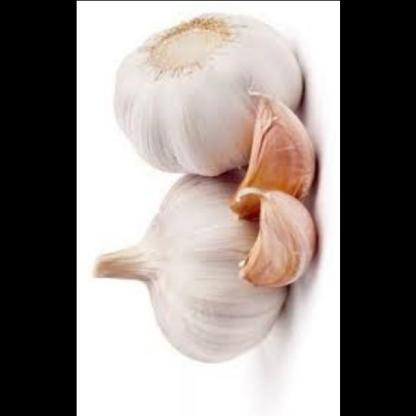garlic: (98, 164, 289, 374), (96, 4, 316, 178), (232, 81, 321, 219), (239, 177, 322, 292)
